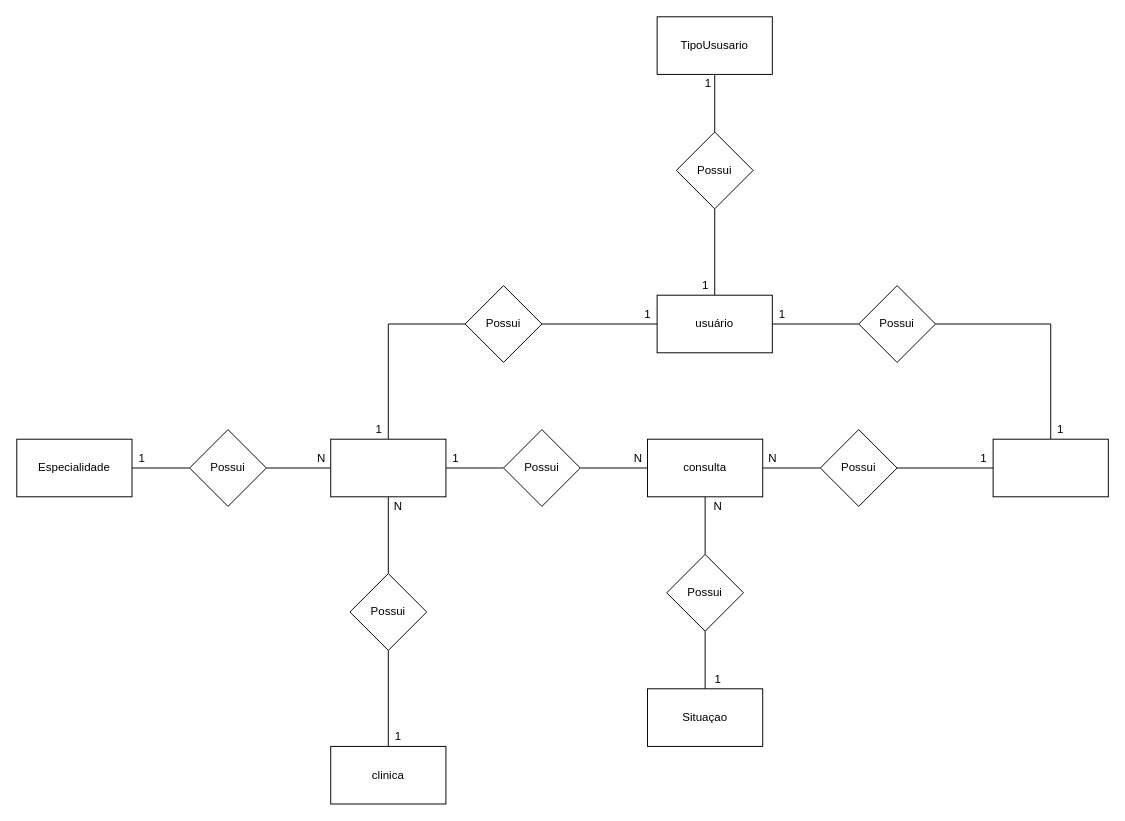
Image size: 1125x821. Some labels were removed from this diagram. Each missing label, with the centre of its shape:
Médico: the point at 388,467
Paciente: the point at 1050,467
